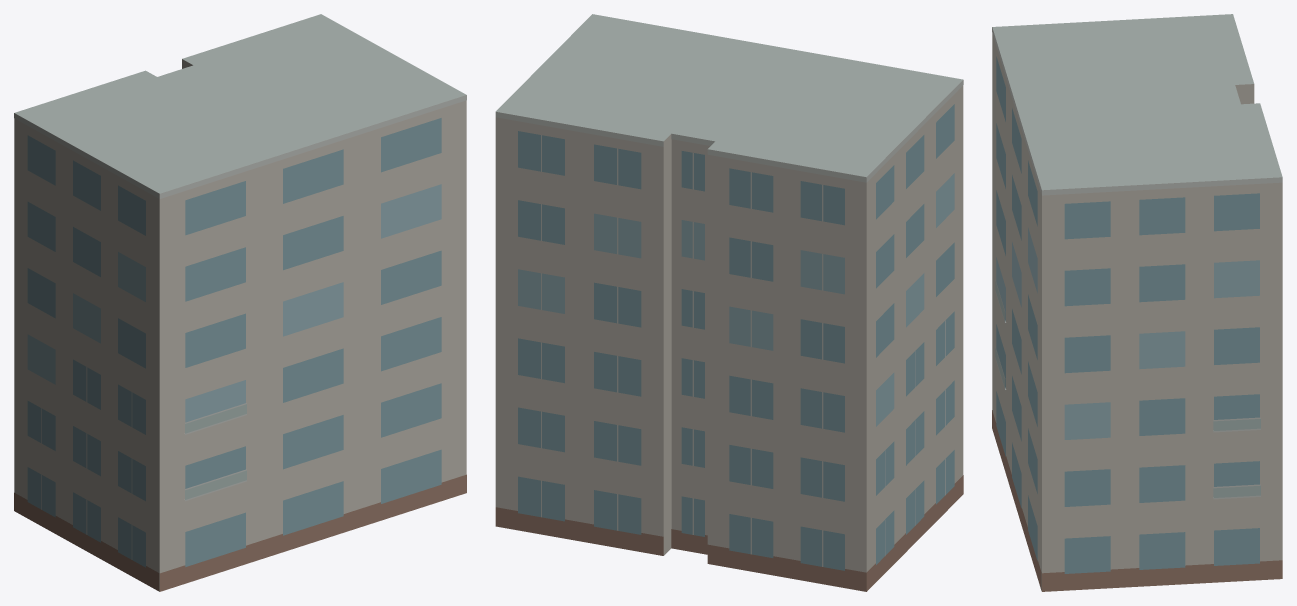
The model's file is survey-upis-32704750.glb.
The picture shows the model from 3 angles, left to right: view 1: azimuth 30°, elevation 25°; view 2: azimuth 150°, elevation 25°; view 3: azimuth 270°, elevation 25°; orthographic projection. The views are drawn at different scales.
Parts seen in each view (by area): view 1: survey-upis-32704750.tmp; view 2: survey-upis-32704750.tmp; view 3: survey-upis-32704750.tmp.
Part boxes in pixels (<box>): survey-upis-32704750.tmp: <box>14,14,466,591</box>; survey-upis-32704750.tmp: <box>495,14,963,591</box>; survey-upis-32704750.tmp: <box>992,14,1282,591</box>.
Size of the model in its own units: 17.23 by 18.3 by 12.
